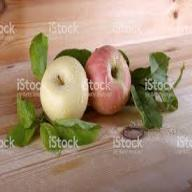apple: (84, 42, 137, 114), (39, 56, 87, 119)
